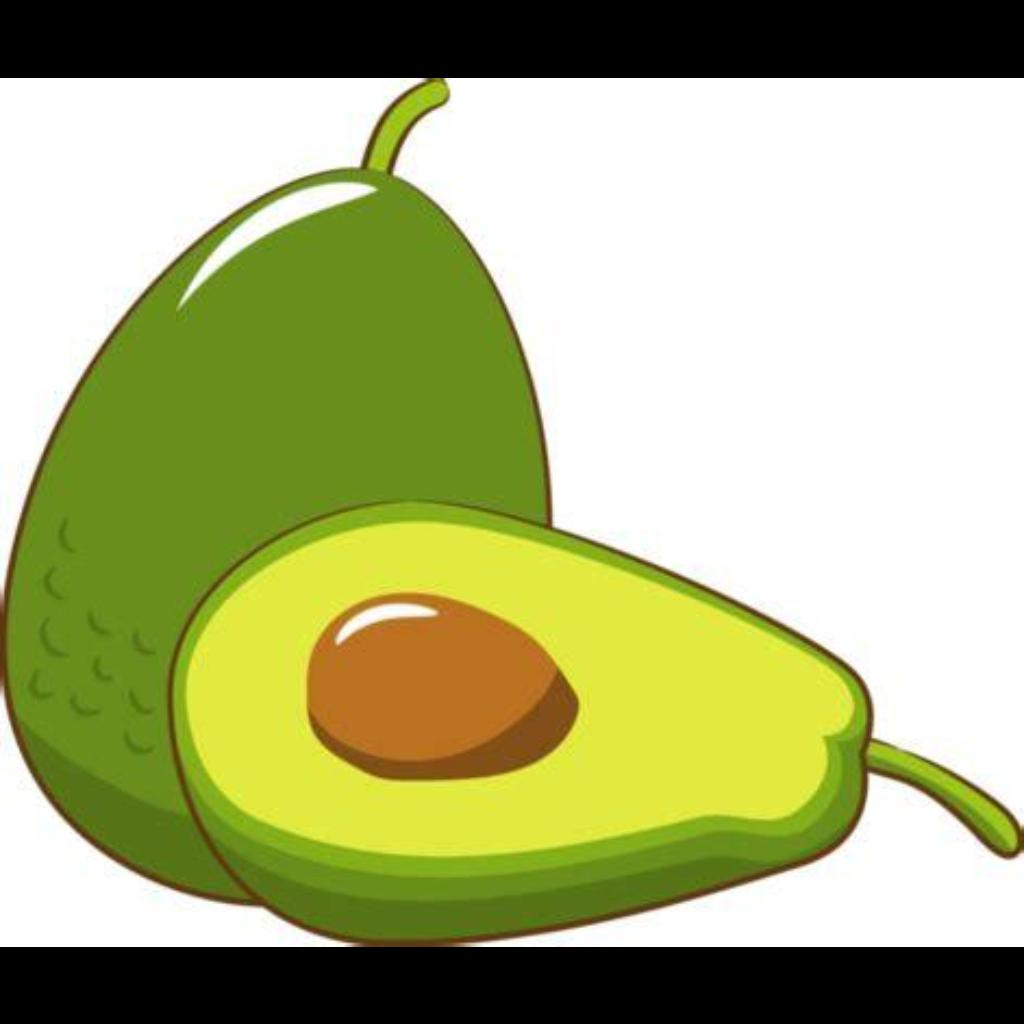Healthy: (0, 181, 754, 933)
